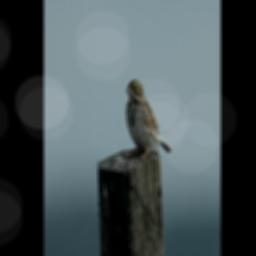Sparrow: (124, 78, 172, 160)
